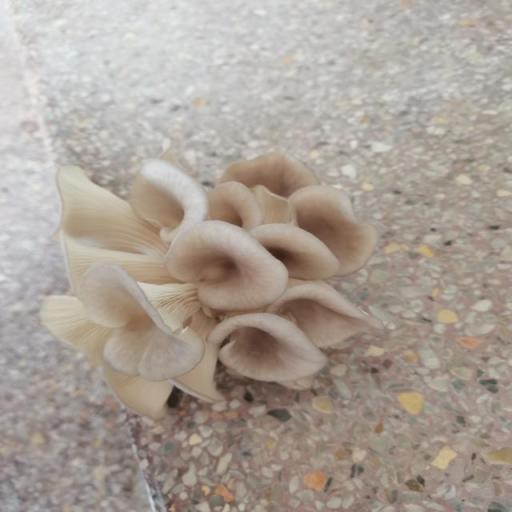White Oyster Mushroom: (34, 141, 382, 422)
